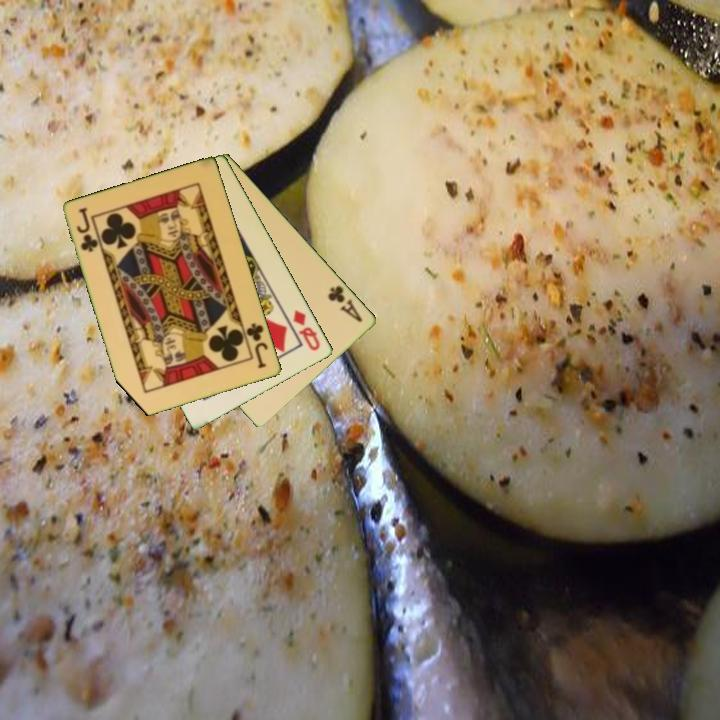Ac: (324, 282, 366, 325)
Jc: (243, 320, 271, 372), (73, 204, 101, 255)
Qd: (290, 306, 324, 354)
